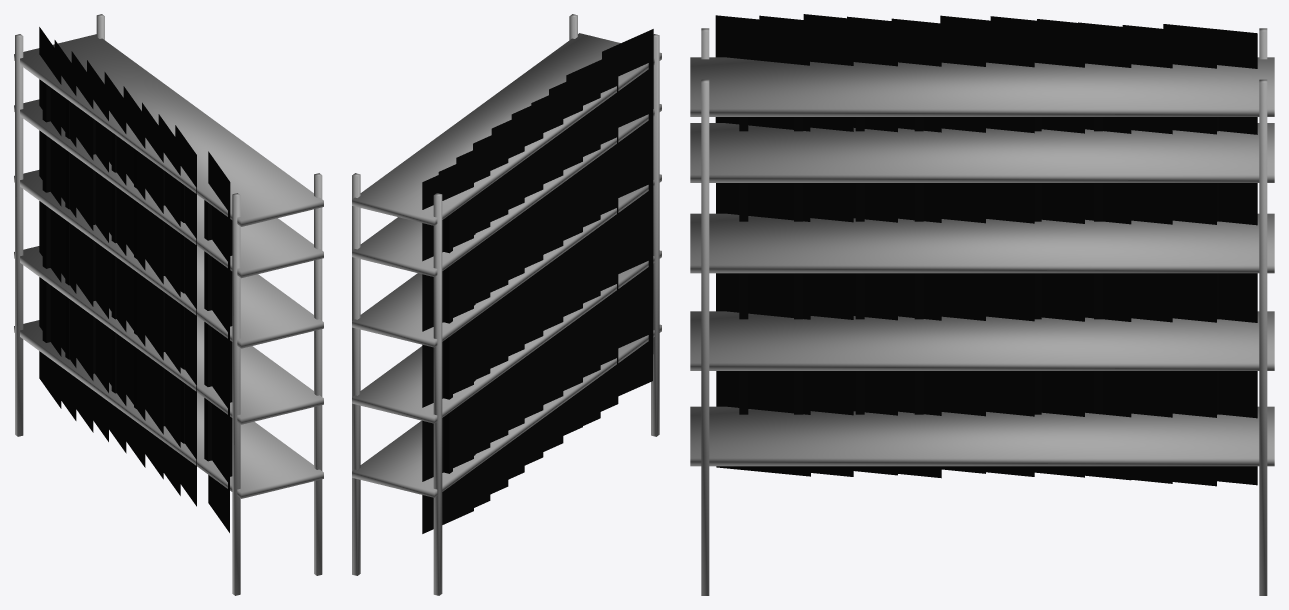
Rendered from shelf.fbx.
The picture shows the model from 3 angles, left to right: view 1: azimuth 30°, elevation 25°; view 2: azimuth 150°, elevation 25°; view 3: azimuth 270°, elevation 25°; orthographic projection. The views are drawn at different scales.
Visible parts, largest first — view 1: node_id6, root (×9), node_id8, node_id16, node_id24, node_id18, node_id14, node_id28, node_id20, node_id22, node_id12, node_id26; view 2: node_id6, node_id8, node_id28, node_id18, node_id20, node_id12, node_id16, node_id24, node_id14, node_id22, node_id26, root (×2); view 3: node_id6, node_id8, node_id18, node_id20, node_id26, node_id16, node_id28, node_id10, node_id24, root (×6), node_id22, node_id12 (+1 smaller).
Boxes of the visible parts, left/top/right/bottom form: node_id6: left=14, top=14, right=323, bottom=595; root (×9): left=42, top=82, right=232, bottom=476; node_id8: left=208, top=151, right=230, bottom=532; node_id16: left=142, top=102, right=163, bottom=479; node_id24: left=71, top=51, right=93, bottom=432; node_id18: left=123, top=86, right=145, bottom=467; node_id14: left=158, top=114, right=180, bottom=495; node_id28: left=39, top=27, right=61, bottom=408; node_id20: left=104, top=72, right=126, bottom=453; node_id22: left=87, top=60, right=108, bottom=441; node_id12: left=175, top=125, right=196, bottom=506; node_id26: left=54, top=40, right=76, bottom=420; node_id6: left=352, top=14, right=661, bottom=595; node_id8: left=602, top=29, right=653, bottom=396; node_id28: left=422, top=159, right=473, bottom=533; node_id18: left=511, top=91, right=563, bottom=451; node_id20: left=491, top=105, right=543, bottom=465; node_id12: left=566, top=52, right=618, bottom=411; node_id16: left=531, top=80, right=582, bottom=435; node_id24: left=456, top=135, right=508, bottom=494; node_id14: left=549, top=66, right=600, bottom=425; node_id22: left=473, top=120, right=524, bottom=479; node_id26: left=438, top=149, right=490, bottom=507; root (×2): left=443, top=196, right=475, bottom=473; node_id6: left=690, top=28, right=1274, bottom=595; node_id8: left=715, top=15, right=810, bottom=476; node_id18: left=940, top=15, right=1034, bottom=476; node_id20: left=990, top=16, right=1084, bottom=477; node_id26: left=1122, top=25, right=1216, bottom=486; node_id16: left=891, top=18, right=985, bottom=473; node_id28: left=1163, top=24, right=1257, bottom=485; node_id10: left=759, top=15, right=853, bottom=476; node_id24: left=1078, top=22, right=1172, bottom=483; root (×6): left=739, top=117, right=1102, bottom=414; node_id22: left=1037, top=19, right=1131, bottom=480; node_id12: left=803, top=14, right=897, bottom=475.
Size of the model in its own units: 0.1445 by 0.6525 by 0.6539.
13 materials, 11 textured.
